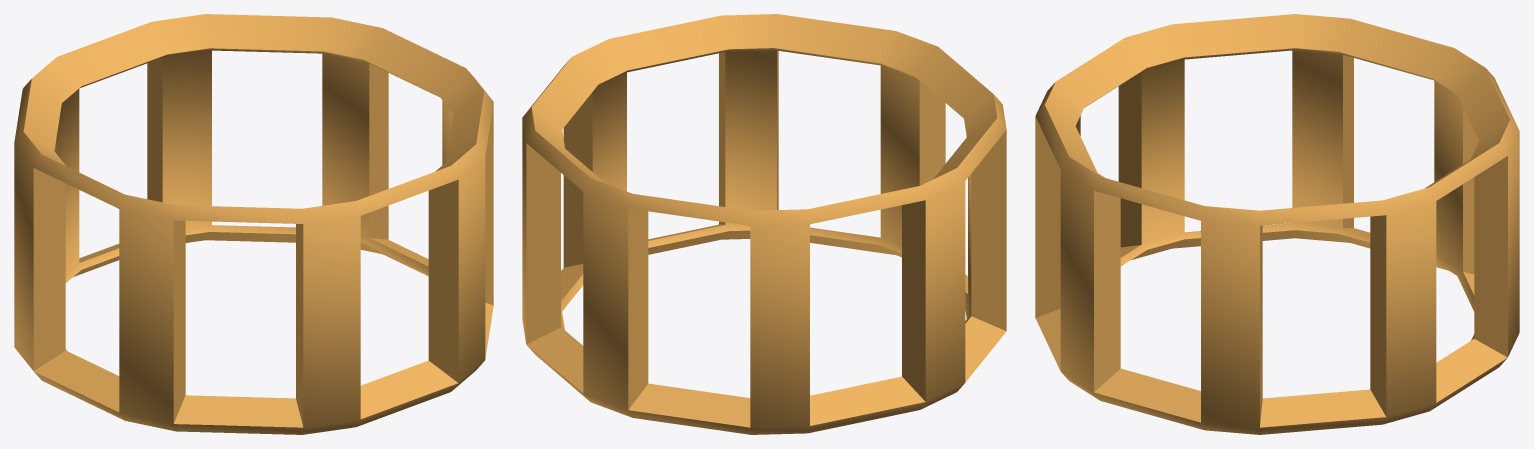
File: CylinderMesh_04.fbx
3 renders of one model, left to right at view 1: azimuth 30°, elevation 25°; view 2: azimuth 150°, elevation 25°; view 3: azimuth 270°, elevation 25°, orthographic.
Visible parts, largest first — view 1: CylinderMesh_04; view 2: CylinderMesh_04; view 3: CylinderMesh_04.
Part boxes in pixels (x1=…): CylinderMesh_04: x1=14, y1=14, x2=493, y2=434; CylinderMesh_04: x1=522, y1=14, x2=1006, y2=434; CylinderMesh_04: x1=1035, y1=14, x2=1519, y2=434.
Size of the model in its own units: 313 by 160 by 313.
